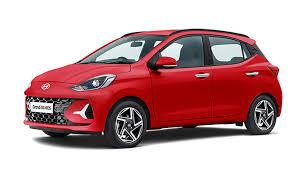hyundai: (37, 81, 53, 90)
